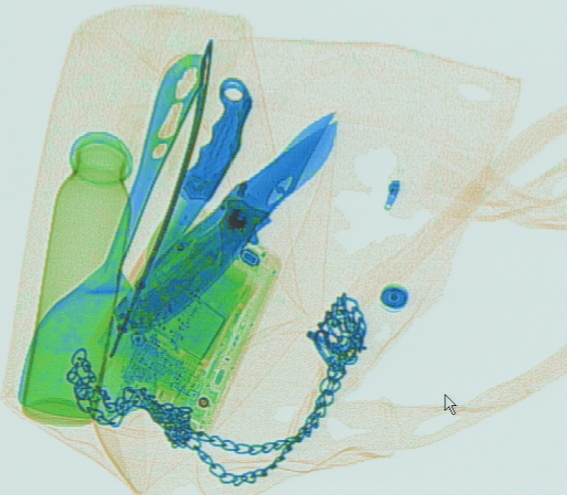knife: (116, 105, 339, 334), (128, 124, 327, 323), (145, 78, 254, 271)
